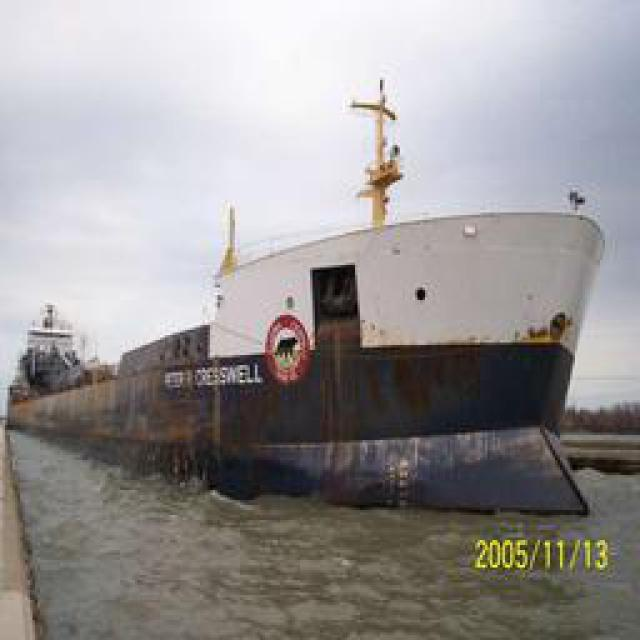Ship: (116, 202, 606, 512)
